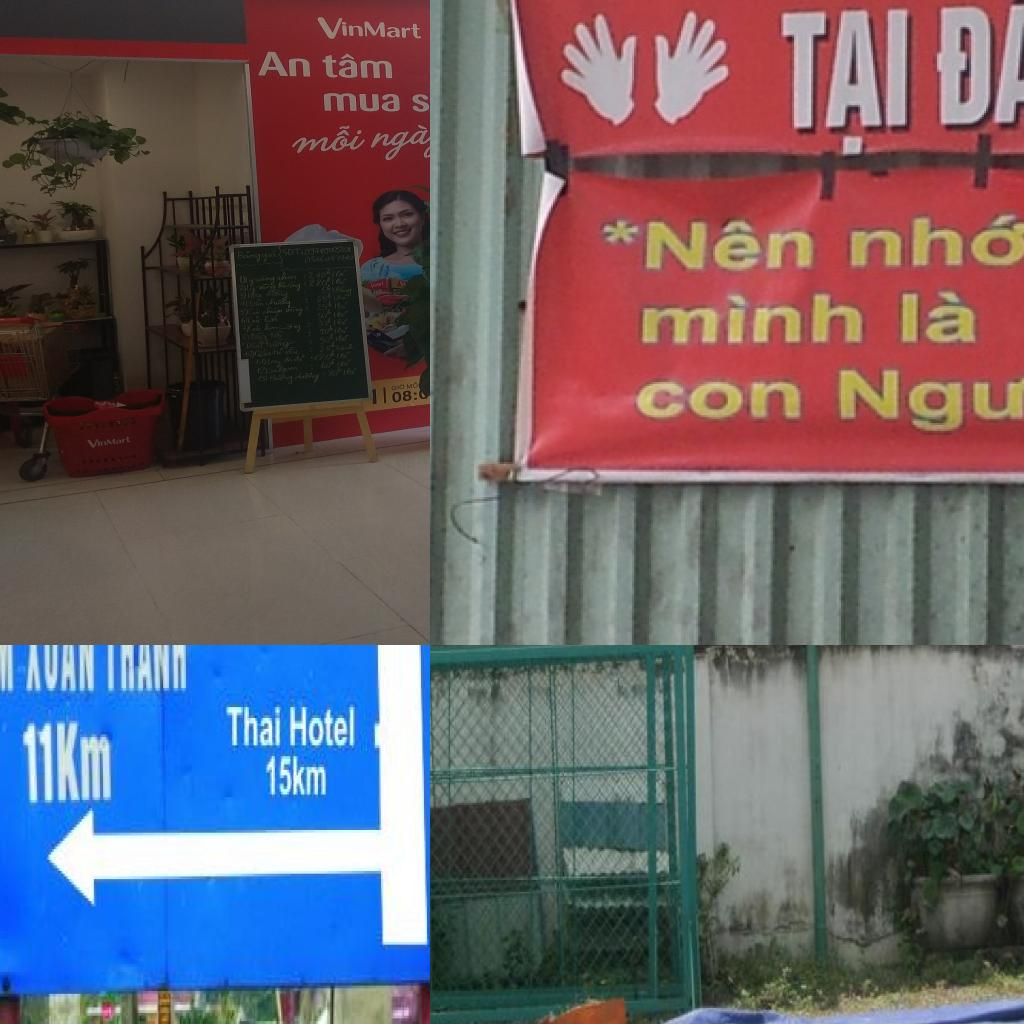text: (779, 6, 914, 156), (834, 366, 1024, 440), (636, 294, 867, 347), (932, 0, 1024, 132), (845, 212, 1024, 270), (640, 218, 820, 273), (19, 718, 117, 814), (634, 378, 805, 421), (894, 290, 984, 349), (101, 645, 190, 699), (21, 645, 98, 701), (288, 699, 360, 756), (264, 754, 332, 806), (221, 699, 286, 753), (366, 119, 430, 161), (289, 121, 369, 154), (316, 16, 422, 39), (322, 54, 392, 79), (323, 93, 401, 112), (257, 52, 311, 77), (408, 84, 430, 112), (87, 436, 131, 448), (256, 371, 293, 385), (254, 364, 299, 375), (304, 246, 352, 256), (305, 254, 354, 263), (253, 356, 283, 369), (391, 389, 417, 403), (266, 338, 296, 350), (294, 370, 322, 382), (264, 297, 291, 309), (237, 250, 261, 263), (242, 332, 267, 344), (242, 348, 271, 358), (264, 290, 290, 301), (276, 282, 303, 292), (240, 298, 265, 308), (275, 272, 298, 282), (284, 305, 303, 317), (241, 340, 266, 349), (261, 250, 277, 264), (255, 275, 275, 285), (262, 306, 284, 315), (278, 324, 300, 333), (238, 275, 254, 287), (239, 308, 263, 316), (255, 284, 276, 293), (282, 248, 304, 256), (241, 324, 263, 332), (238, 292, 263, 299), (239, 285, 258, 294), (335, 286, 352, 296), (240, 316, 260, 324), (283, 344, 299, 354), (263, 314, 279, 323), (293, 353, 306, 363), (338, 344, 354, 352), (263, 323, 279, 331), (269, 331, 285, 339), (308, 272, 326, 279), (272, 346, 284, 356), (312, 355, 331, 361), (309, 280, 328, 286), (391, 383, 405, 391), (405, 381, 419, 389), (370, 281, 384, 288), (336, 310, 348, 318), (337, 326, 349, 334), (337, 318, 349, 326), (338, 334, 350, 342), (335, 278, 347, 285), (336, 270, 348, 277), (336, 294, 348, 301), (339, 352, 351, 359), (340, 360, 352, 367), (345, 368, 357, 375), (319, 328, 329, 336), (320, 345, 330, 353), (327, 369, 338, 376), (316, 296, 328, 302), (316, 304, 328, 310), (336, 302, 348, 308), (320, 337, 330, 344), (321, 362, 331, 369), (283, 356, 293, 363), (318, 312, 327, 319), (319, 320, 328, 326), (331, 341, 338, 348), (326, 317, 334, 323), (326, 276, 333, 282), (326, 269, 333, 275), (326, 293, 334, 298), (326, 301, 334, 306), (336, 367, 344, 372), (328, 325, 334, 331), (331, 350, 337, 356), (326, 309, 333, 314), (331, 358, 336, 365), (326, 285, 332, 290), (330, 334, 336, 339), (310, 364, 314, 370), (307, 314, 311, 319), (306, 306, 310, 311), (322, 372, 326, 377), (310, 348, 313, 354), (304, 282, 307, 287), (305, 299, 308, 304), (303, 274, 306, 279), (308, 322, 311, 327), (305, 290, 308, 294), (309, 340, 312, 344), (308, 332, 311, 336)
